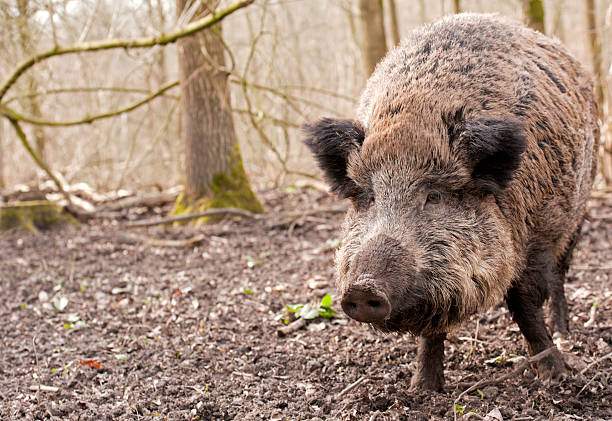pig: (305, 58, 562, 354)
